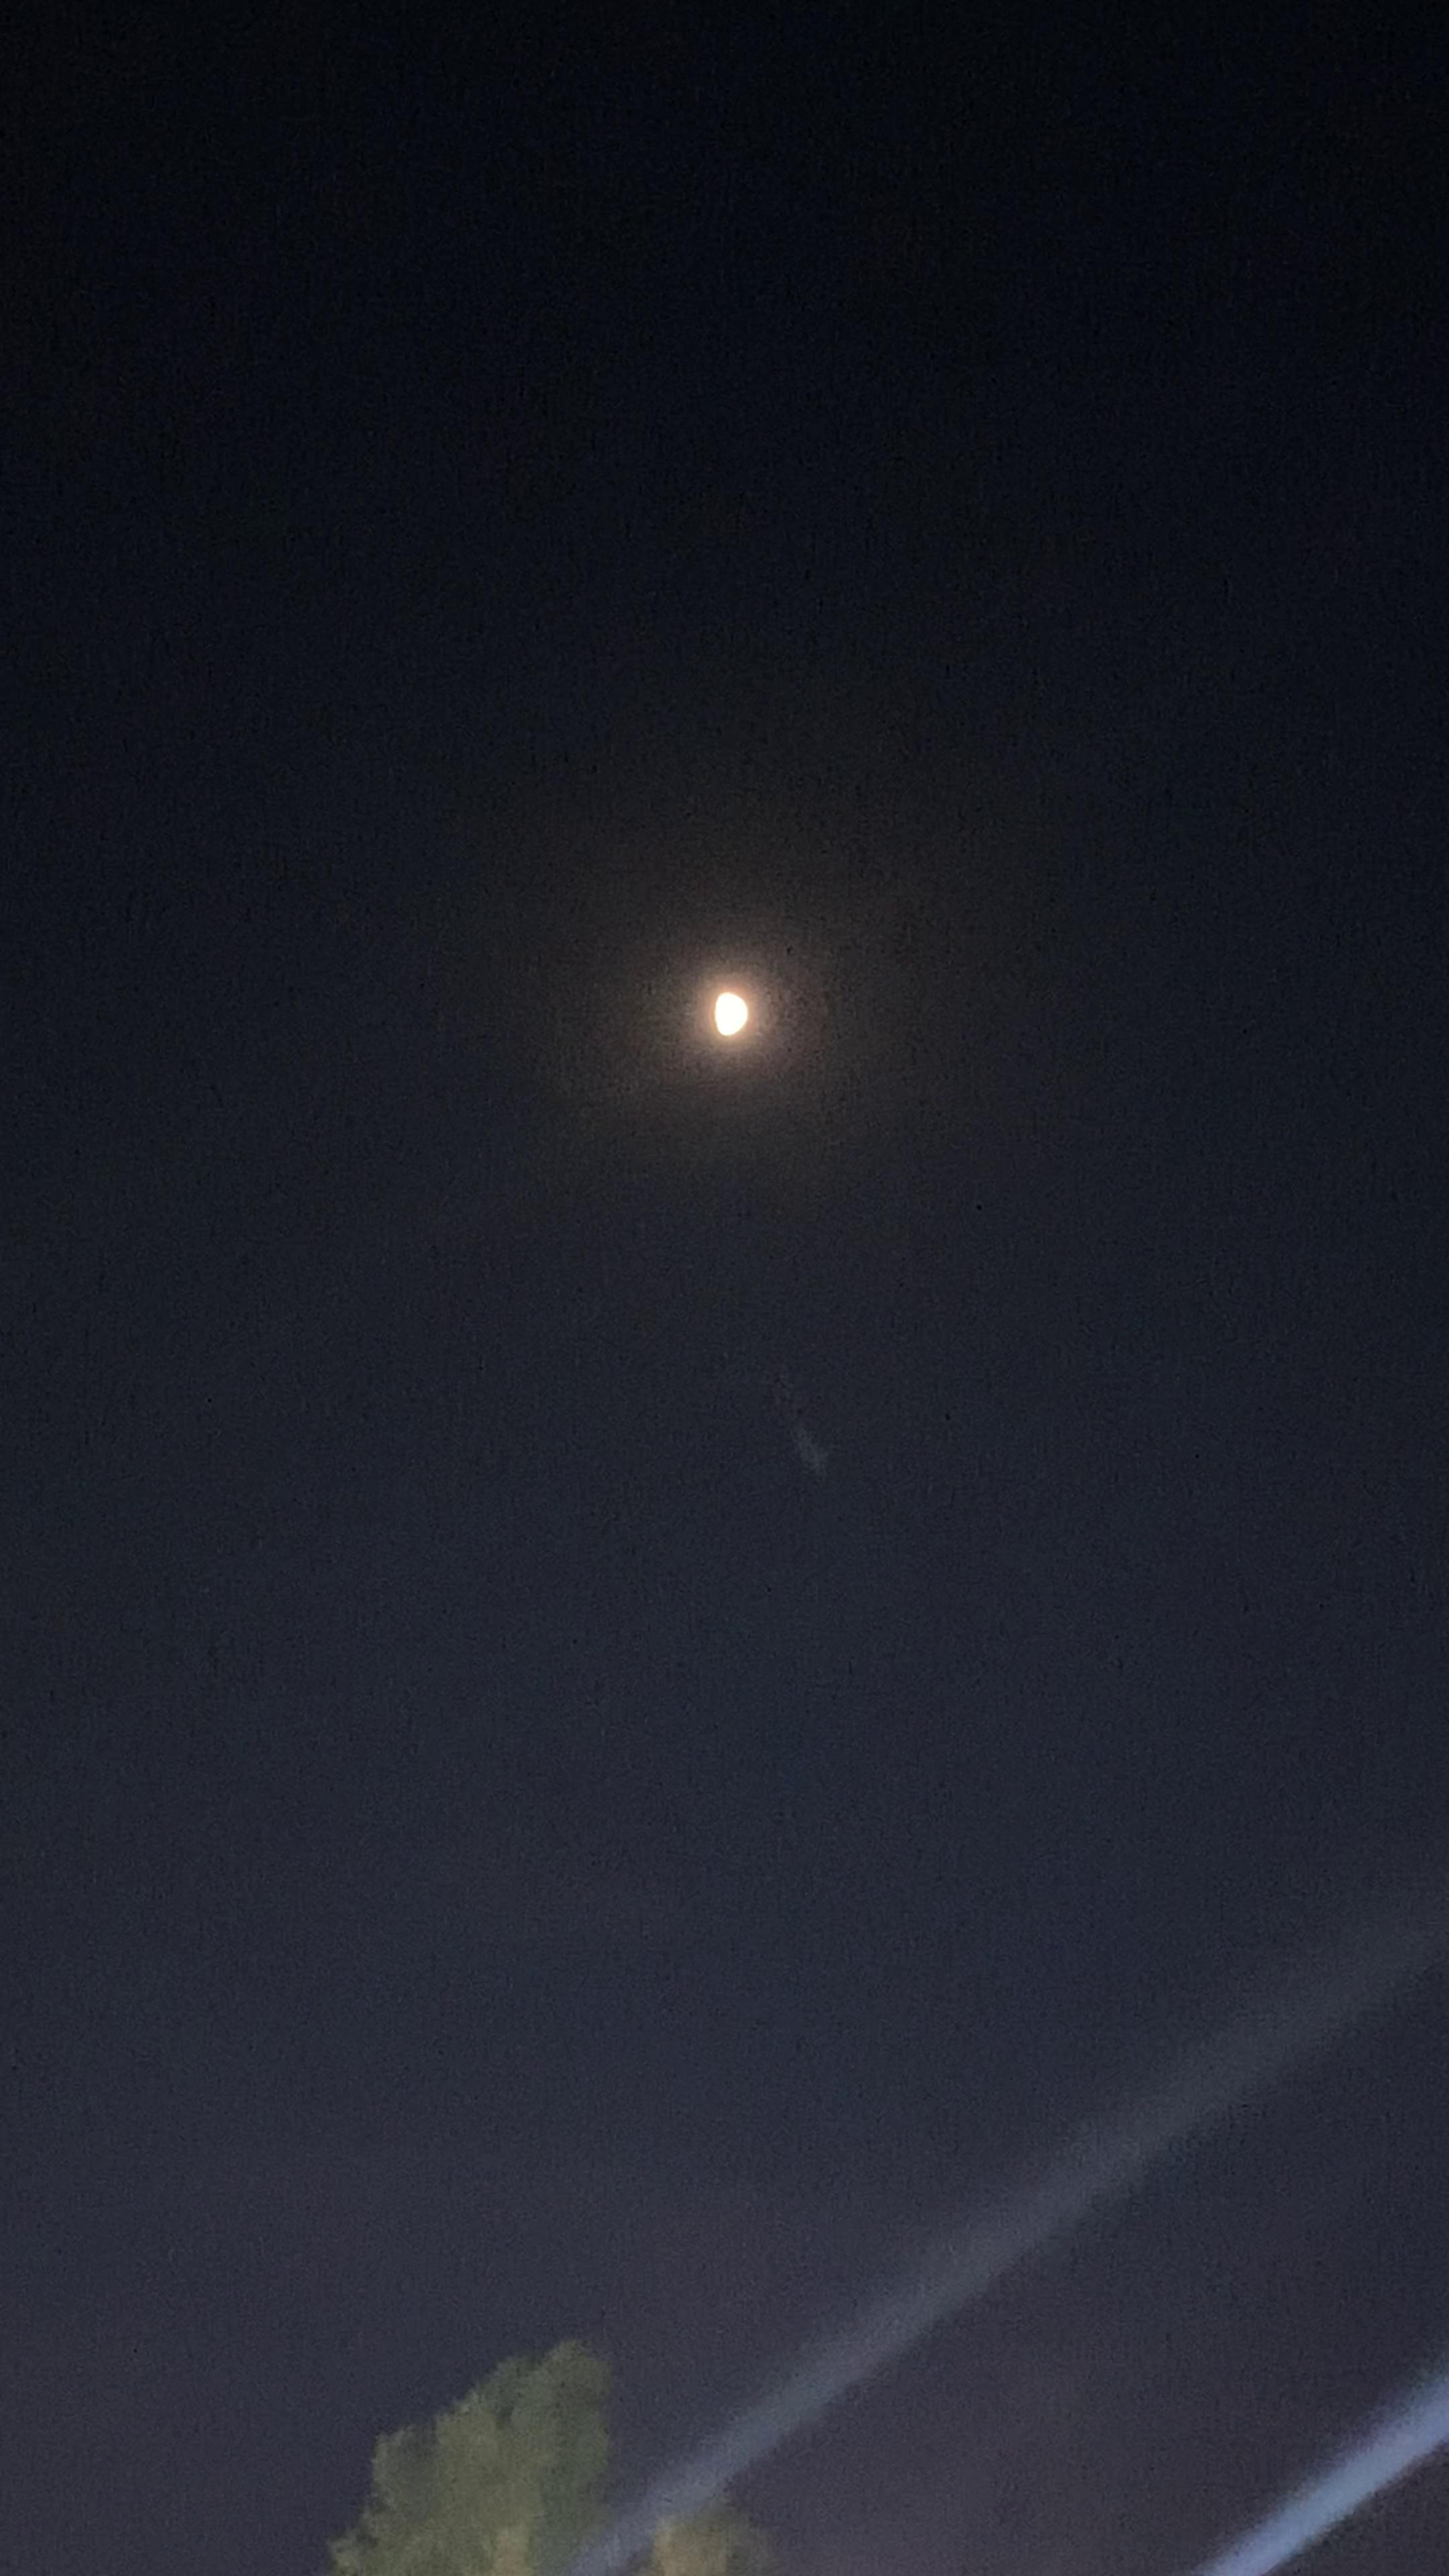moon: (692, 964, 791, 1083)
